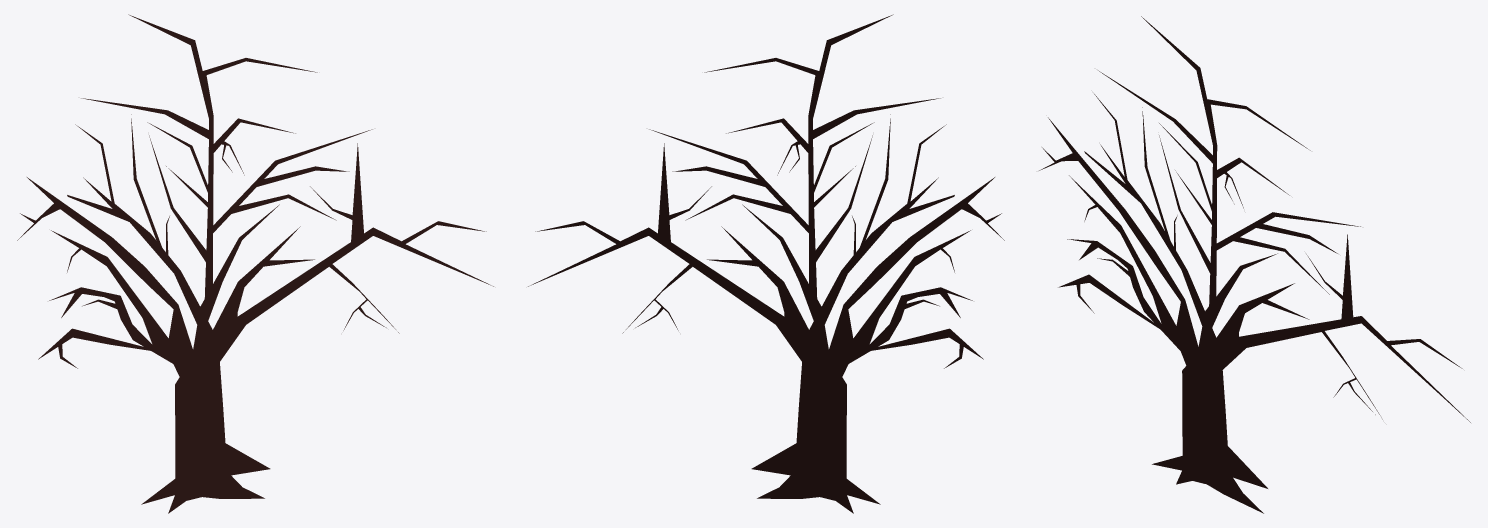
The model's file is CherryTree_03.fbx.
The picture shows the model from 3 angles, left to right: view 1: azimuth 30°, elevation 25°; view 2: azimuth 150°, elevation 25°; view 3: azimuth 330°, elevation 25°; orthographic projection. The views are drawn at different scales.
Visible parts, largest first — view 1: planarTrimmedSurface7; view 2: planarTrimmedSurface7; view 3: planarTrimmedSurface7.
Boxes of the visible parts, box(x1,y1,x2,y2) form: planarTrimmedSurface7: box(17, 14, 493, 513); planarTrimmedSurface7: box(528, 14, 1004, 513); planarTrimmedSurface7: box(1039, 16, 1470, 513).
Size of the model in its own units: 16.56 by 17 by 0.
1 material, 1 textured.
